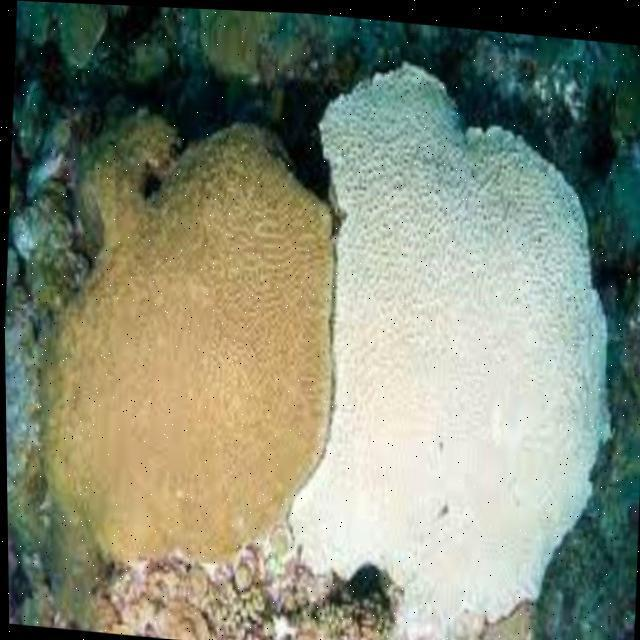Bleached Coral: (322, 50, 626, 626)
Healthy Coral: (16, 108, 337, 584)
